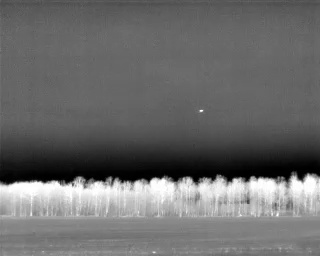DRONE: (196, 106, 207, 116)
